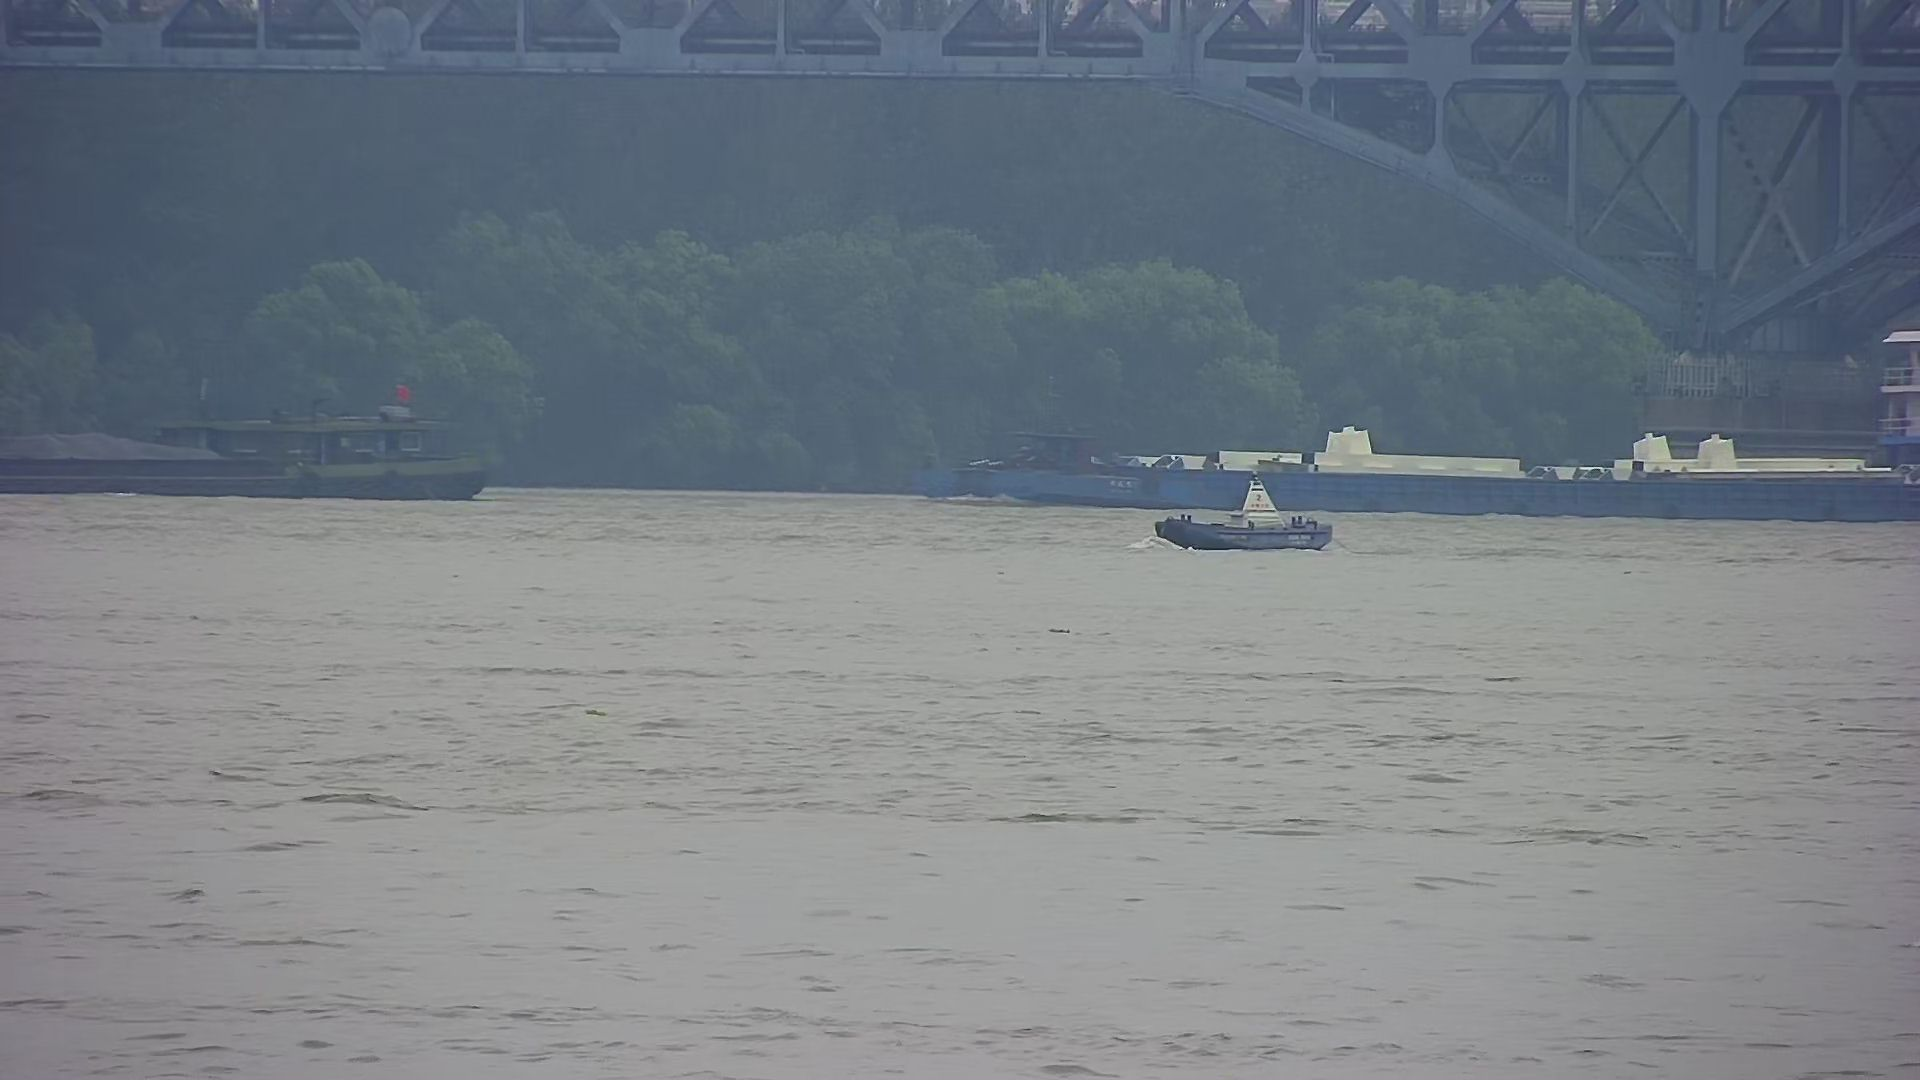boat: (1139, 469, 1346, 554)
bridge: (1, 4, 1900, 468)
ship: (902, 331, 1920, 534), (1, 364, 512, 506)
